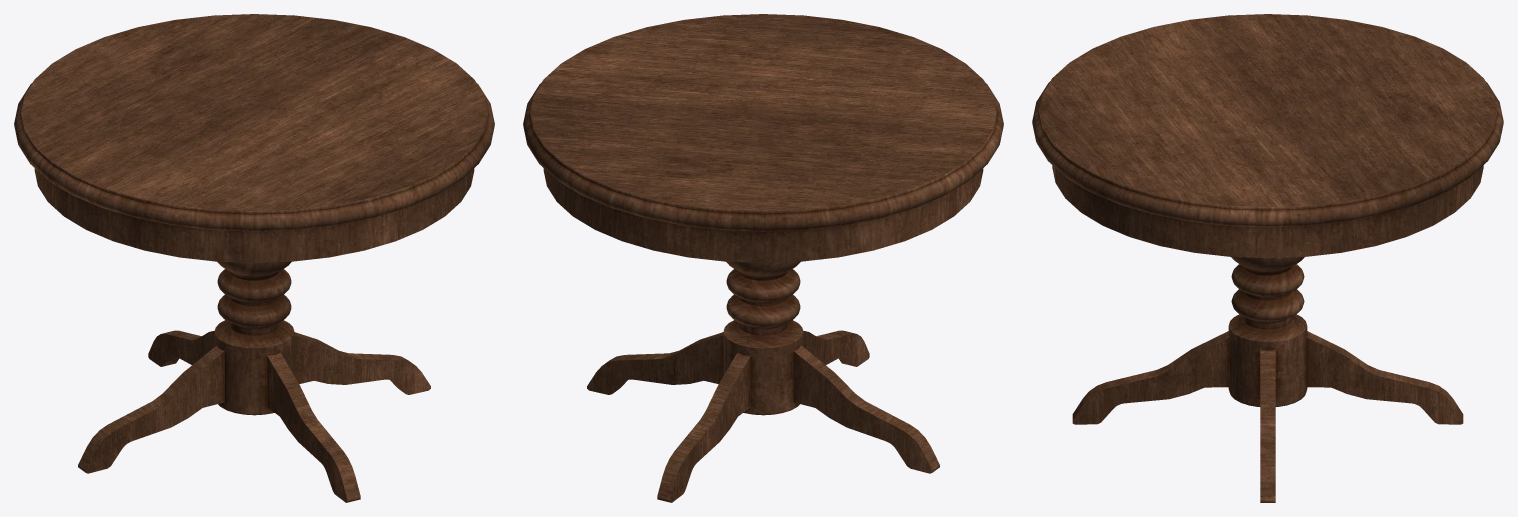
Rendered from dining_table_yryabchenko.glb.
The picture shows the model from 3 angles, left to right: view 1: azimuth 30°, elevation 25°; view 2: azimuth 150°, elevation 25°; view 3: azimuth 270°, elevation 25°; orthographic projection.
Parts seen in each view (by area): view 1: pCylinder6_blinn1_0; view 2: pCylinder6_blinn1_0; view 3: pCylinder6_blinn1_0.
Part boxes in pixels (bbox=[...]): pCylinder6_blinn1_0: bbox=[14, 14, 494, 502]; pCylinder6_blinn1_0: bbox=[523, 14, 1003, 502]; pCylinder6_blinn1_0: bbox=[1032, 14, 1503, 502].
Bounding box in the file's own units: 4.53 × 3.3 × 4.53.
Materials: 1 (1 with a texture image).
